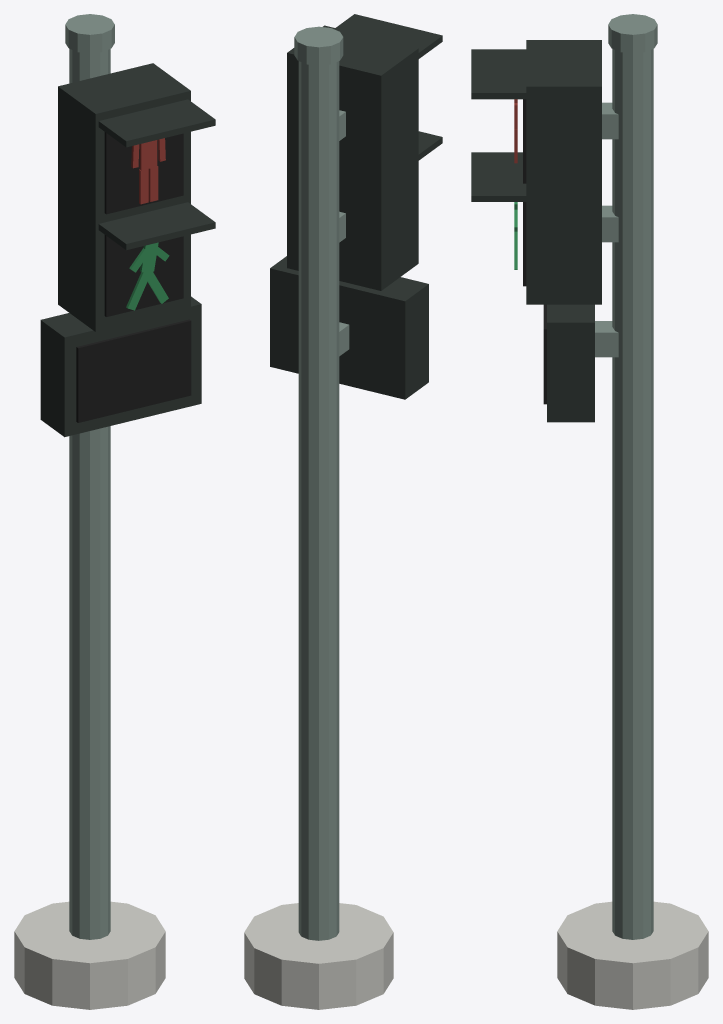
The model's file is pedestrian-light.glb.
The picture shows the model from 3 angles, left to right: view 1: azimuth 30°, elevation 25°; view 2: azimuth 150°, elevation 25°; view 3: azimuth 270°, elevation 25°; orthographic projection.
Parts seen in each view (by area): view 1: head, pole, timer_display, lamp_ped_red, lamp_ped_green; view 2: pole, head; view 3: pole, head.
Part boxes in pixels (box(x1,y1,x2,y2)): head: box(40, 63, 215, 437); pole: box(14, 14, 165, 1009); timer_display: box(76, 319, 191, 422); lamp_ped_red: box(131, 138, 165, 204); lamp_ped_green: box(126, 242, 169, 310); pole: box(244, 26, 393, 1009); head: box(270, 14, 442, 399); pole: box(557, 14, 708, 1009); head: box(471, 40, 601, 422).
Bounding box in the file's own units: 0.46 × 3.06 × 0.69.
